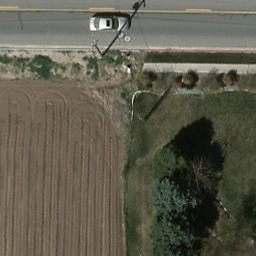car: (89, 16, 130, 32)
